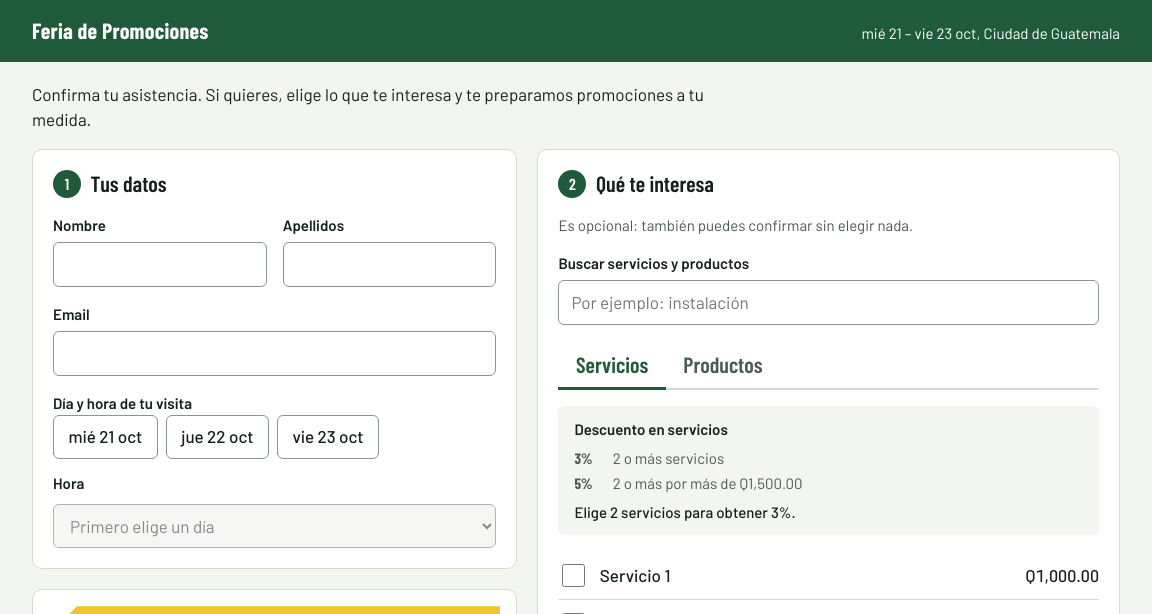
validation › asks for a day and a time when the time select is left empty
This screenshot has width=1152, height=614.
Click the 1st radio button: x=105, y=437 x1=53 y1=415 x2=158 y2=459
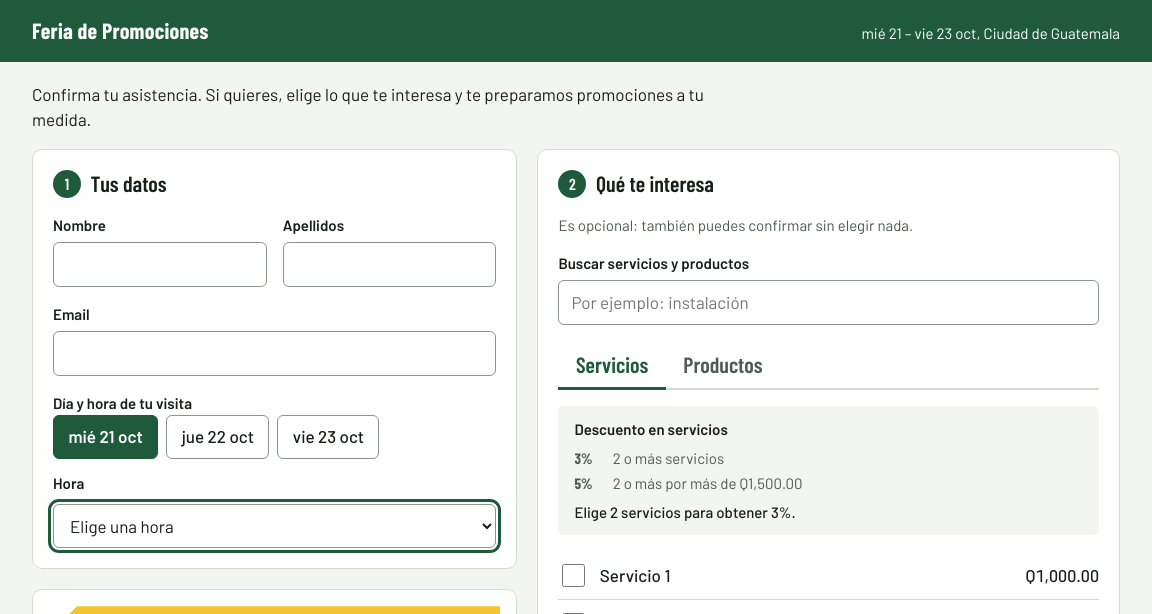
Press Tab
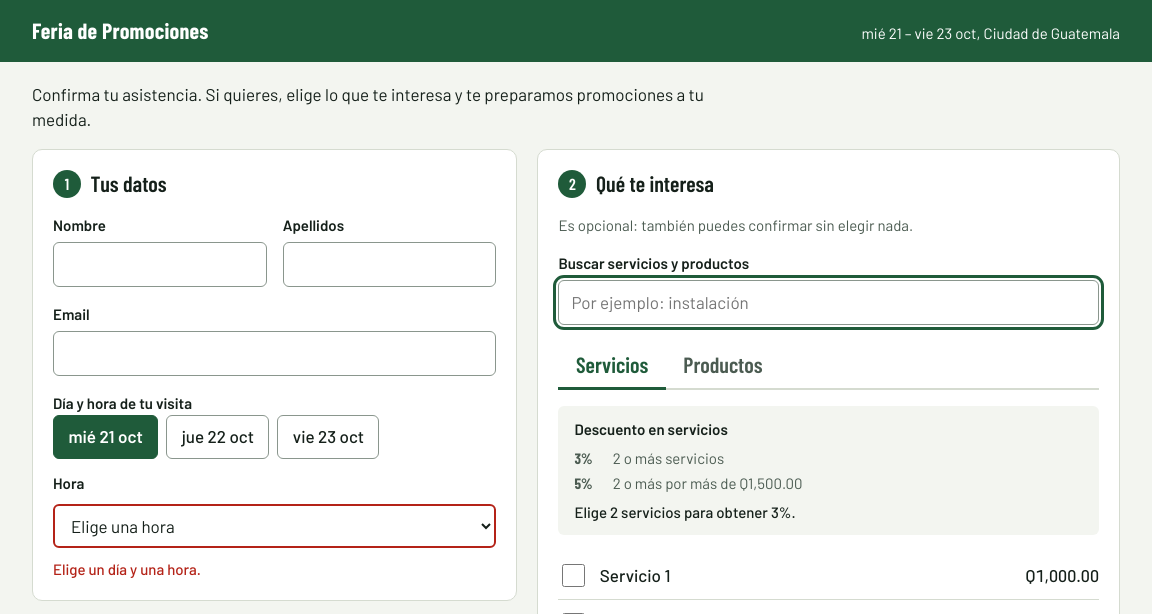
Now the text "Elige un día y una hora." is shown, box x1=53 y1=560 x2=201 y2=578
